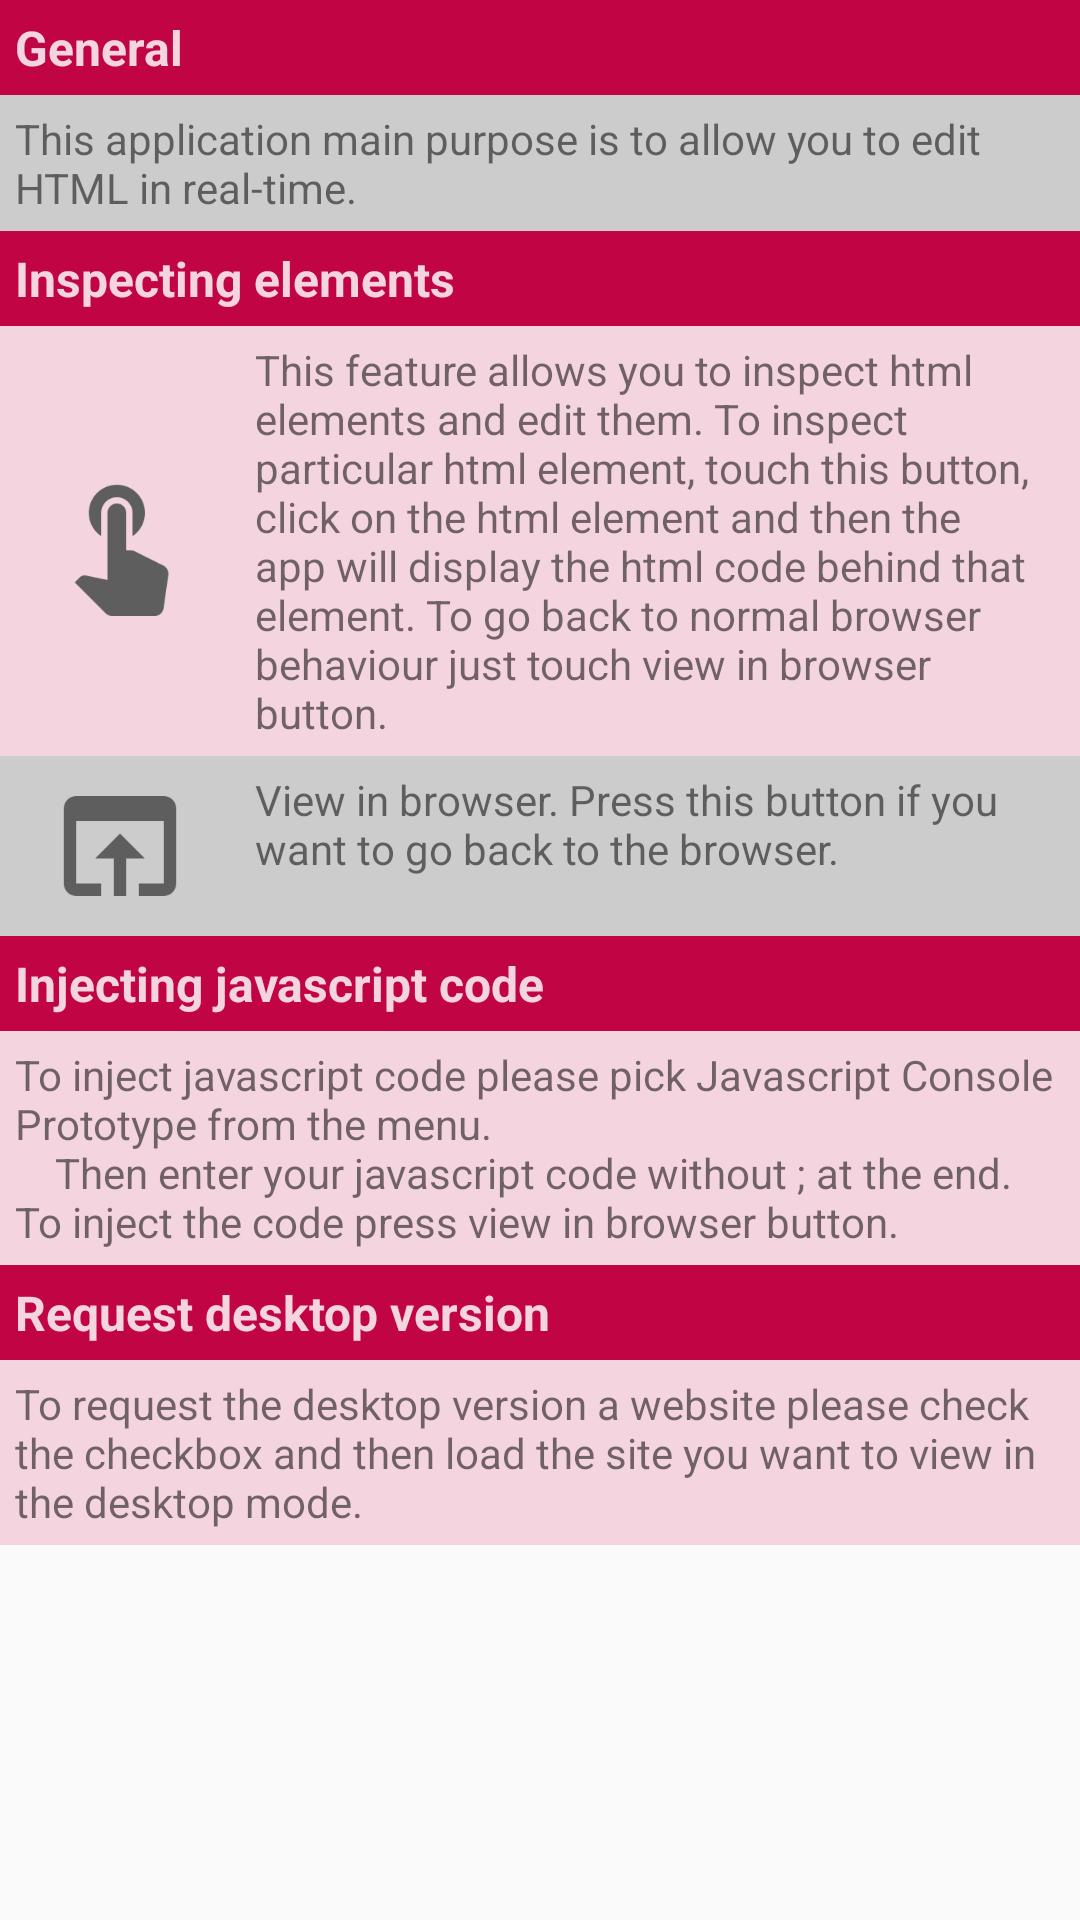

Where to tap for icons on this 1080x1920 app screen, as (x=x, y=y):
open in browser: (x=120, y=846)
